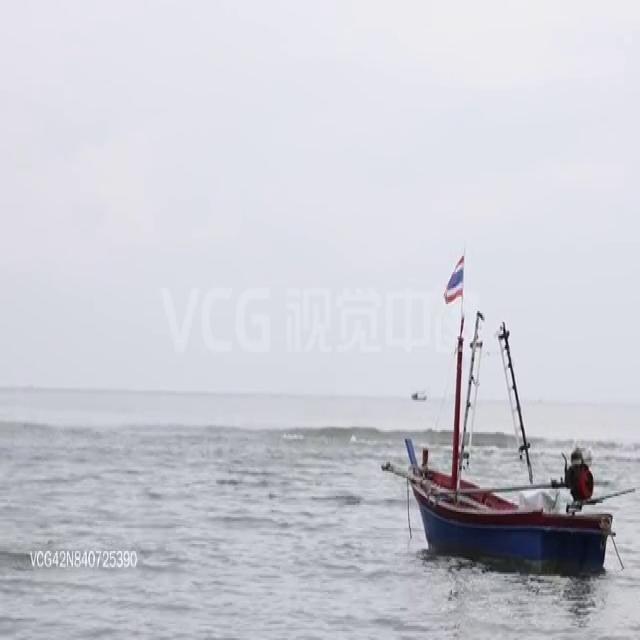fishing boat: (386, 264, 610, 568)
